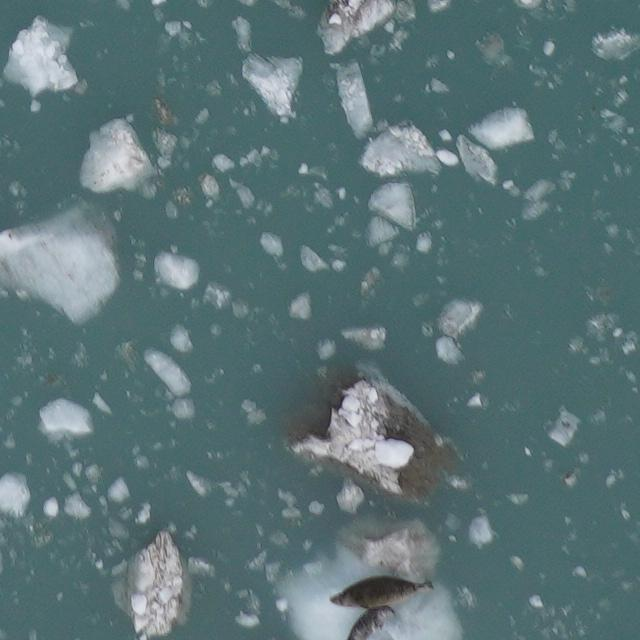seal: (326, 572, 438, 612), (344, 602, 399, 640)
